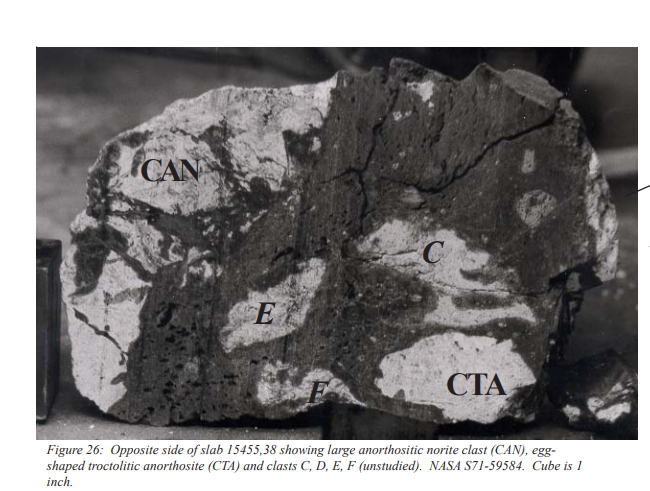Breccia: (56, 66, 632, 429), (103, 140, 557, 423)
